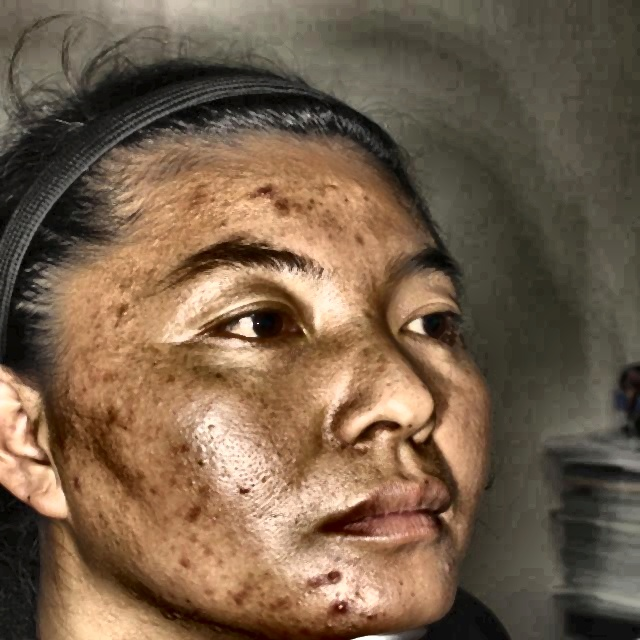pustule: (66, 469, 110, 499), (243, 170, 278, 200), (301, 563, 344, 586), (222, 580, 255, 606), (178, 547, 199, 574), (331, 595, 355, 617), (276, 200, 295, 217)
